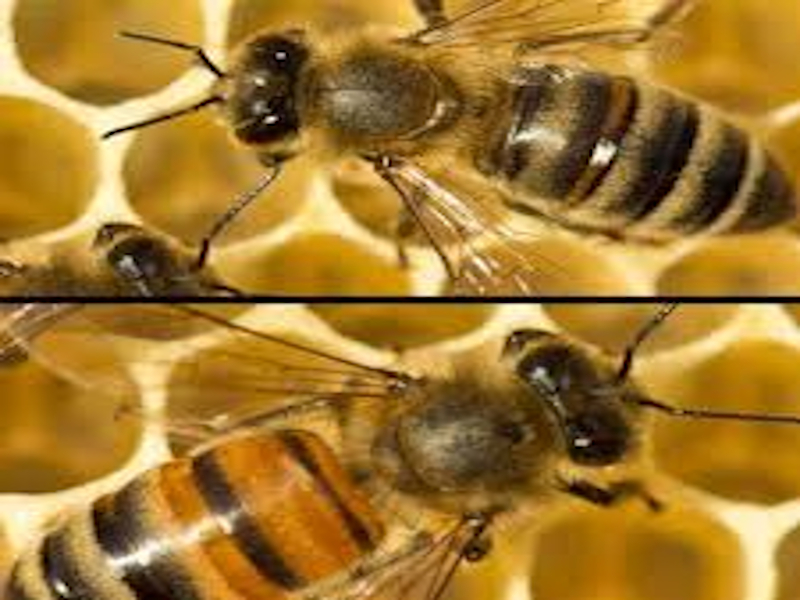abeja: (47, 309, 716, 600), (99, 7, 794, 263)
